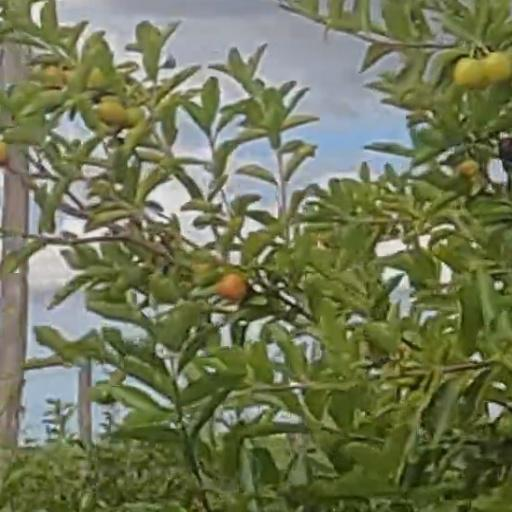acerola: (453, 58, 482, 91), (485, 52, 509, 84), (218, 275, 247, 300), (98, 104, 127, 126)
